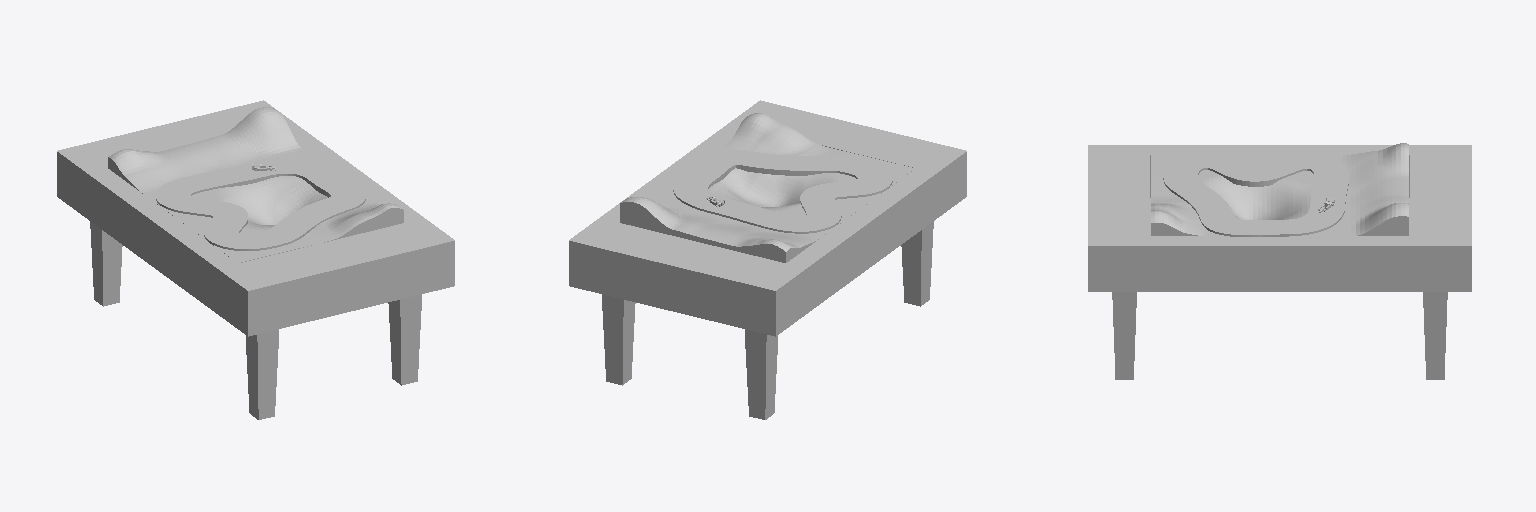
Rendered from NewestTisch9.obj.
The picture shows the model from 3 angles: view 1: azimuth 30°, elevation 25°; view 2: azimuth 150°, elevation 25°; view 3: azimuth 270°, elevation 25°; orthographic projection.
Parts seen in each view (by area): view 1: Tischplatte_wood_table_001, Landschaft_aerial_grass_rock, off, Bein1_wood_table_001, Bein4_wood_table_001.003, Bein3_wood_table_001.002; view 2: Tischplatte_wood_table_001, Landschaft_aerial_grass_rock, off, Bein2_wood_table_001.001, Bein3_wood_table_001.002, Bein4_wood_table_001.003; view 3: Tischplatte_wood_table_001, Landschaft_aerial_grass_rock, off, Bein1_wood_table_001, Bein2_wood_table_001.001.
Boxes of the visible parts, <box> form: Tischplatte_wood_table_001: <box>57,100,454,336</box>; Landschaft_aerial_grass_rock: <box>108,107,403,262</box>; off: <box>156,159,365,250</box>; Bein1_wood_table_001: <box>388,294,421,385</box>; Bein4_wood_table_001.003: <box>246,329,278,419</box>; Bein3_wood_table_001.002: <box>90,221,122,306</box>; Tischplatte_wood_table_001: <box>569,100,966,336</box>; Landschaft_aerial_grass_rock: <box>620,113,915,262</box>; off: <box>673,150,892,233</box>; Bein2_wood_table_001.001: <box>602,294,635,385</box>; Bein3_wood_table_001.002: <box>745,329,777,419</box>; Bein4_wood_table_001.003: <box>901,221,933,306</box>; Tischplatte_wood_table_001: <box>1088,145,1471,291</box>; Landschaft_aerial_grass_rock: <box>1151,143,1408,235</box>; off: <box>1163,153,1348,236</box>; Bein1_wood_table_001: <box>1112,292,1136,379</box>; Bein2_wood_table_001.001: <box>1423,292,1447,379</box>.
Size of the model in its own units: 5 by 3.91 by 8.